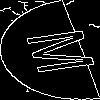M: (24, 25, 100, 76)
